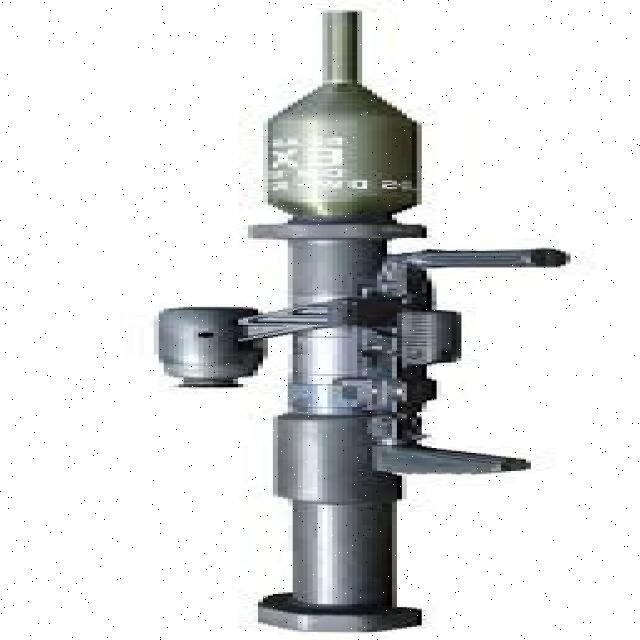bazooka: (119, 2, 586, 640)
